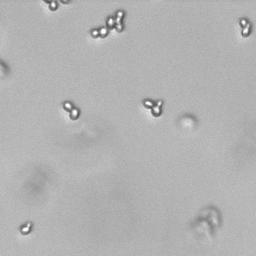2: (60, 99, 83, 121), (18, 219, 33, 237)
3a: (143, 97, 165, 117), (237, 16, 253, 38)
cluster: (86, 6, 128, 40)
